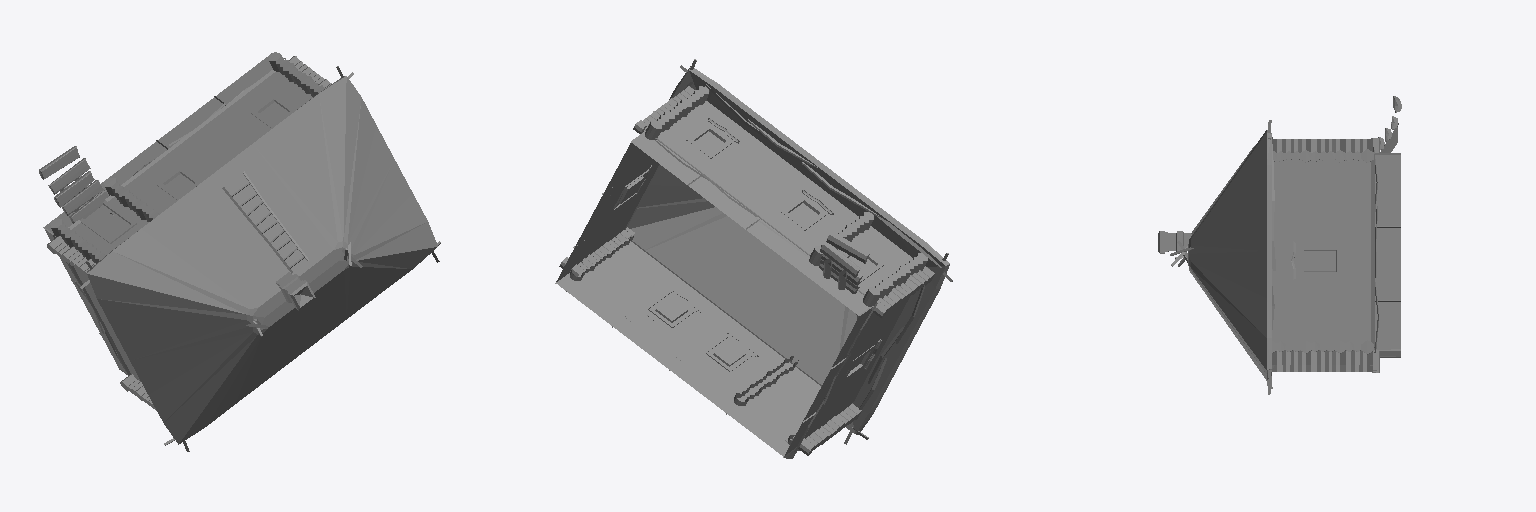
The model's file is house2.obj.
3 renders of one model, left to right at view 1: azimuth 30°, elevation 25°; view 2: azimuth 150°, elevation 25°; view 3: azimuth 270°, elevation 25°, orthographic.
Visible parts, largest first — view 1: hatka_local_.005; view 2: hatka_local_.005; view 3: hatka_local_.005.
Boxes of the visible parts, x1,y1,x2,y2 form: hatka_local_.005: [39, 52, 440, 451]; hatka_local_.005: [555, 59, 952, 458]; hatka_local_.005: [1158, 96, 1401, 394].
Size of the model in its own units: 2.63 by 2.43 by 1.54.